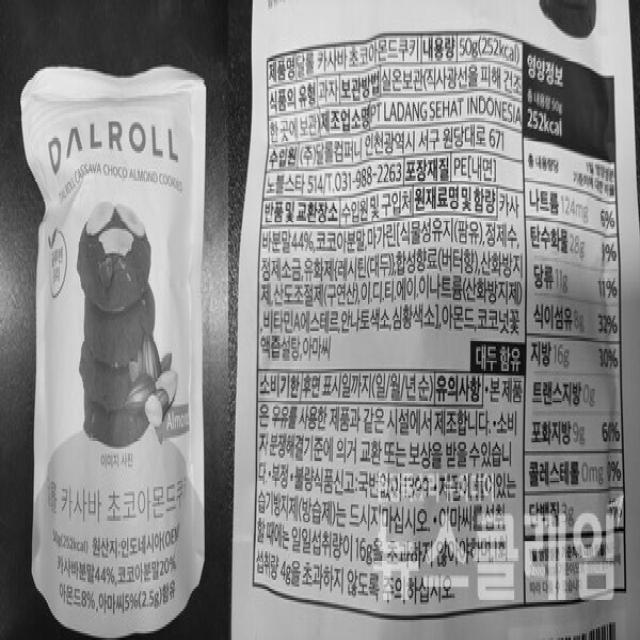Nutrition Label: (517, 25, 635, 621)
